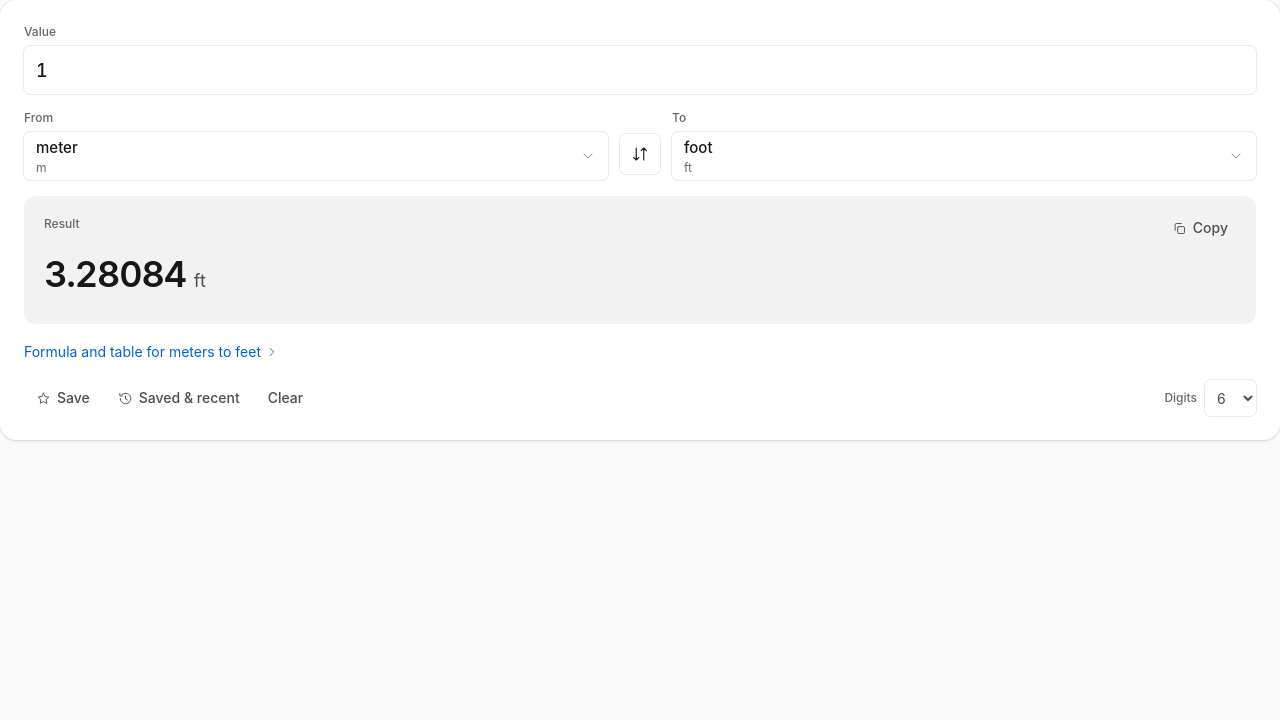
recent conversions › can be cleared
Step 1. Click the button "Saved & recent" → point(179, 398), box x1=106 y1=382 x2=252 y2=414
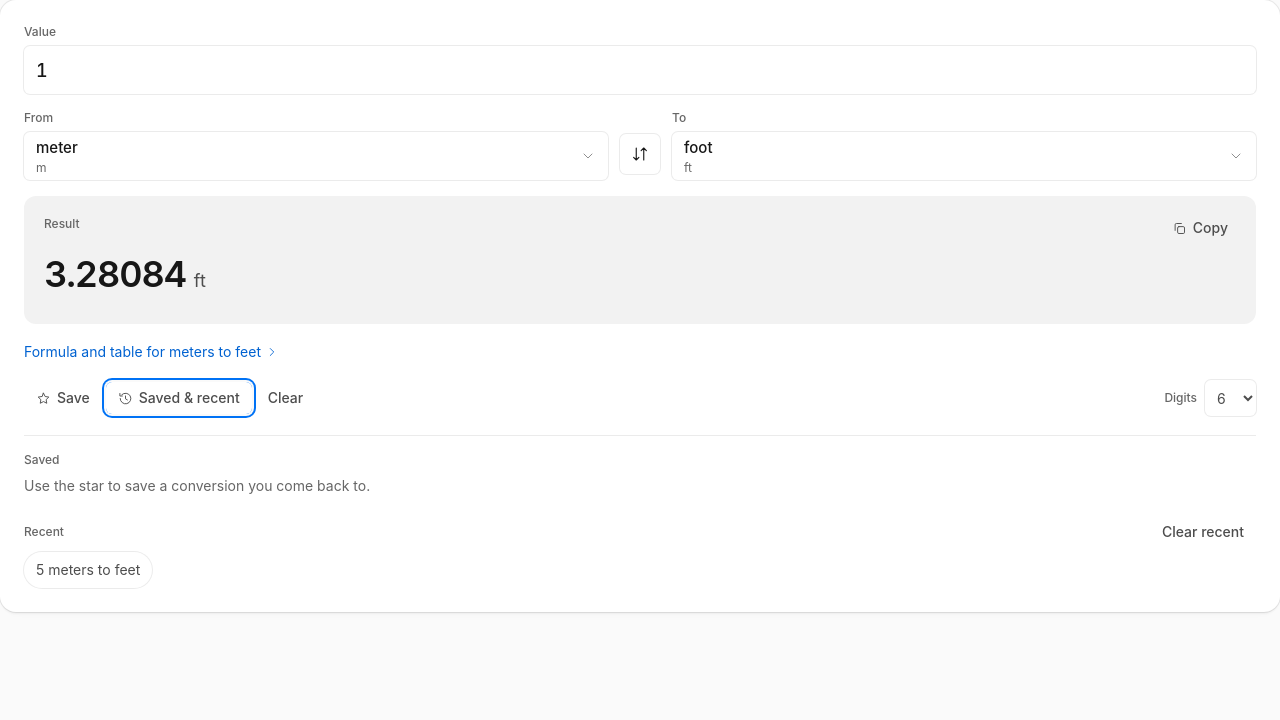
Expected: the element "5 meters to feet" is shown, x1=24 y1=516 x2=1256 y2=588
Step 2. Click the button "Clear recent" → point(1203, 532), box x1=1150 y1=516 x2=1256 y2=548
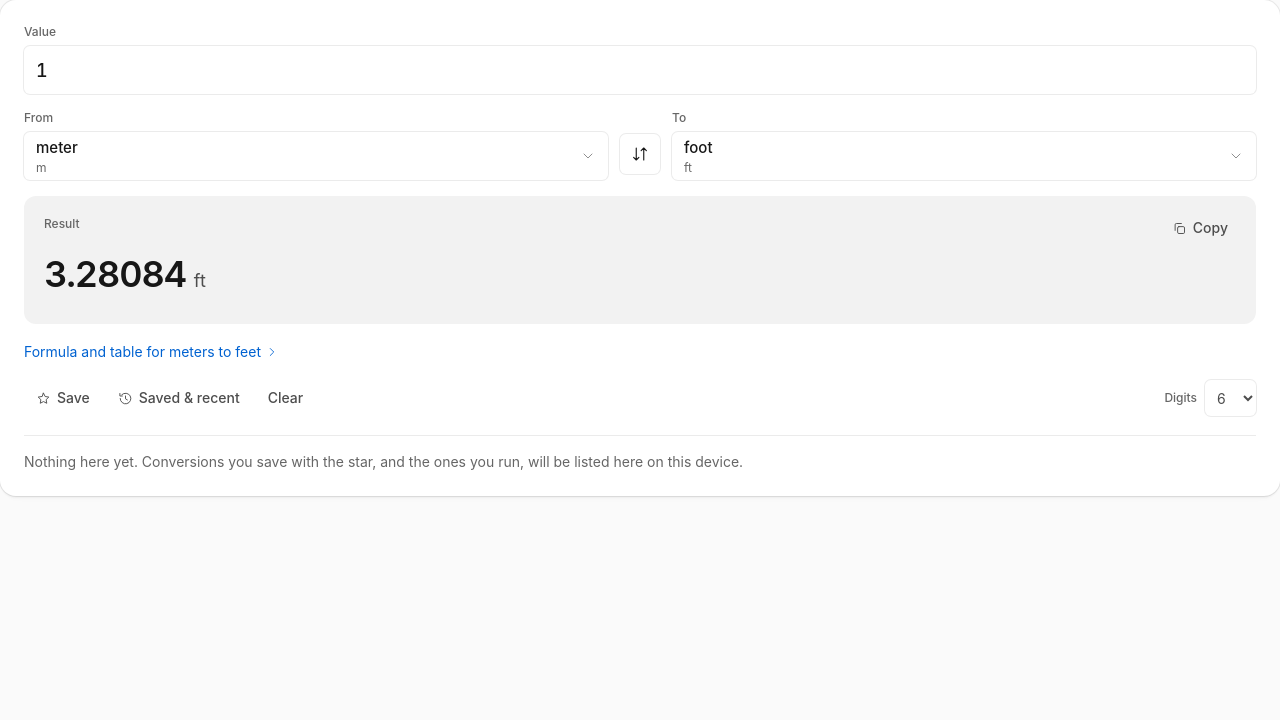
Expected: the link "5 meters to feet" is gone
